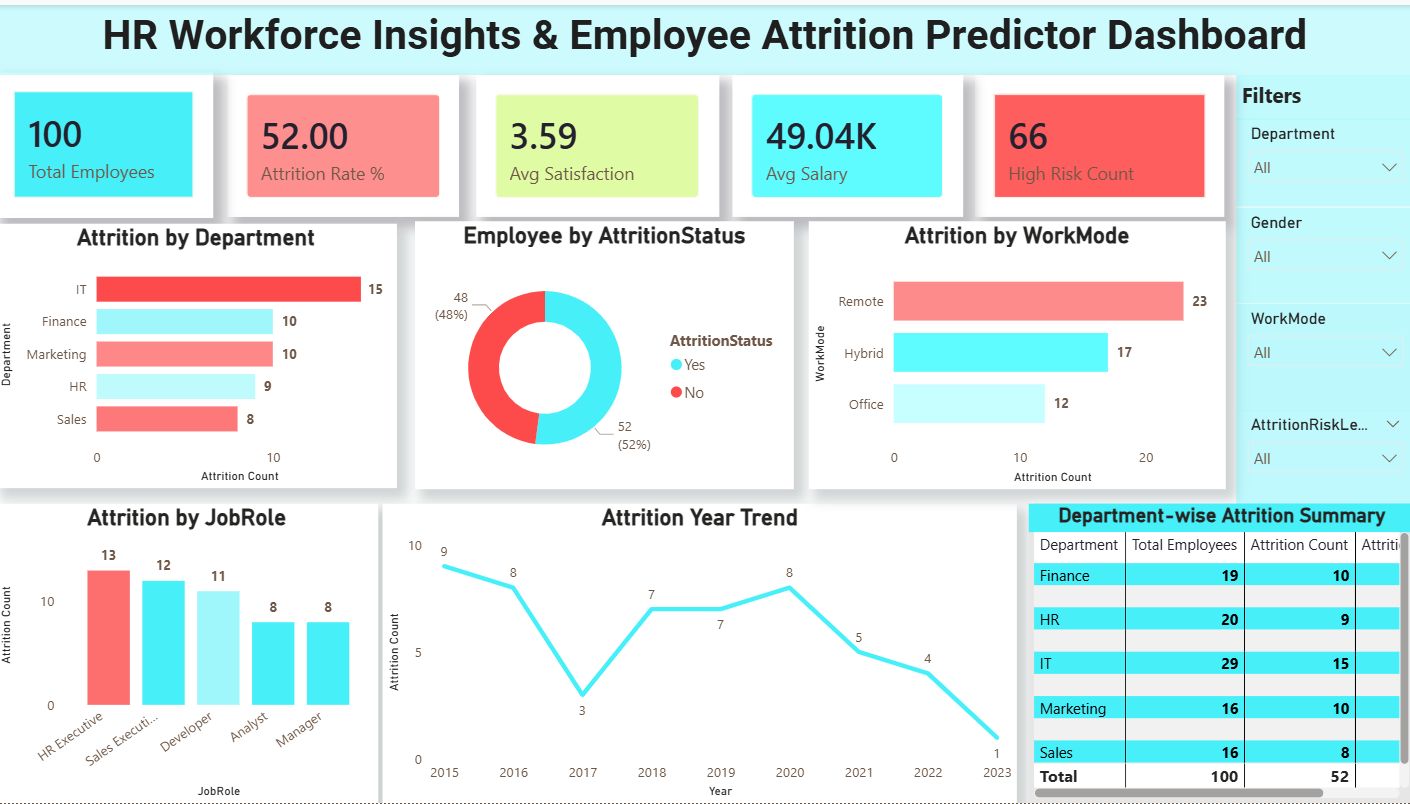

The dashboard page shown, as its layout file describes it:
{"tool":"powerbi","page":{"name":"Page 1","canvas":[1280,720],"ordinal":0},"visuals":[{"type":"cardVisual","fields":{"Data":["HR_Data.Attrition Rate %"]},"box":[209.1,63.6,209.1,128.4],"z":0},{"type":"cardVisual","fields":{"Data":["HR_Data.Avg Satisfaction"]},"box":[434.1,63.6,218.9,128.4],"z":1},{"type":"cardVisual","fields":{"Data":["HR_Data.High Risk Count"]},"box":[884.1,63.6,225,128.4],"z":2},{"type":"cardVisual","fields":{"Data":["HR_Data.Avg Salary"]},"box":[665.2,63.6,207.9,128.4],"z":3},{"type":"cardVisual","fields":{"Data":["HR_Data.Total Employees"]},"box":[0,61.1,196.9,130.8],"z":4},{"type":"textbox","box":[0,0,1280.3,63.1],"z":5},{"type":"clusteredBarChart","title":"Attrition by Department","fields":{"Category":["HR_Data.Department"],"Y":["HR_Data.Attrition Count"]},"box":[0,197.6,362.3,238.8],"z":6},{"type":"clusteredColumnChart","title":"Attrition by JobRole","fields":{"Category":["HR_Data.JobRole"],"Y":["HR_Data.Attrition Count"]},"box":[0,450.1,345.8,270.3],"z":7},{"type":"donutChart","title":" Employee by AttritionStatus","fields":{"Category":["HR_Data.AttritionStatus"],"Y":["CountNonNull(HR_Data.EmployeeID)"]},"box":[378.7,194.9,341.7,241.5],"z":8},{"type":"lineChart","title":"Attrition Year Trend","fields":{"Category":["HR_Data.JoiningDate.Variation.Date Hierarchy.Year","HR_Data.JoiningDate.Variation.Date Hierarchy.Month"],"Y":["HR_Data.Attrition Count"]},"box":[349.9,450.1,572.2,270.3],"z":9},{"type":"barChart","title":"Attrition by WorkMode","fields":{"Category":["HR_Data.WorkMode"],"Y":["HR_Data.Attrition Count"]},"box":[734.1,194.9,376,241.5],"z":10},{"type":"pivotTable","title":"Department-wise Attrition Summary","fields":{"Rows":["HR_Data.Department"],"Values":["HR_Data.Total Employees","HR_Data.Attrition Count","HR_Data.Attrition Rate %"]},"box":[931.7,450.1,348.5,270.3],"z":11},{"type":"slicer","fields":{"Values":["HR_Data.Department"]},"box":[1119.7,102.9,160.5,79.6],"z":12},{"type":"slicer","fields":{"Values":["HR_Data.Gender"]},"box":[1119.7,182.5,160.5,86.4],"z":13},{"type":"slicer","fields":{"Values":["HR_Data.WorkMode"]},"box":[1119.7,269,160.5,96.1],"z":14},{"type":"slicer","fields":{"Values":["HR_Data.AttritionRiskLevel"]},"box":[1119.7,365,160.5,85.1],"z":15},{"type":"textbox","box":[1119.7,63.1,160.5,39.8],"z":16}]}

Visuals, with their boxes in screenshot pixels (x1, y1, x2, y2), scaled from the page's 1280x720 canvas onto the 1410x804 screenshot:
cardVisual - HR_Data.Attrition Rate %: rect(230, 71, 461, 214)
cardVisual - HR_Data.Avg Satisfaction: rect(478, 71, 719, 214)
cardVisual - HR_Data.High Risk Count: rect(974, 71, 1222, 214)
cardVisual - HR_Data.Avg Salary: rect(733, 71, 962, 214)
cardVisual - HR_Data.Total Employees: rect(0, 68, 217, 214)
textbox: rect(0, 0, 1409, 70)
"Attrition by Department" clusteredBarChart: rect(0, 221, 399, 487)
"Attrition by JobRole" clusteredColumnChart: rect(0, 503, 381, 803)
" Employee by AttritionStatus" donutChart: rect(417, 218, 794, 487)
"Attrition Year Trend" lineChart: rect(385, 503, 1016, 803)
"Attrition by WorkMode" barChart: rect(809, 218, 1223, 487)
"Department-wise Attrition Summary" pivotTable: rect(1026, 503, 1409, 803)
slicer - HR_Data.Department: rect(1233, 115, 1409, 204)
slicer - HR_Data.Gender: rect(1233, 204, 1409, 300)
slicer - HR_Data.WorkMode: rect(1233, 300, 1409, 408)
slicer - HR_Data.AttritionRiskLevel: rect(1233, 408, 1409, 503)
textbox: rect(1233, 70, 1409, 115)
